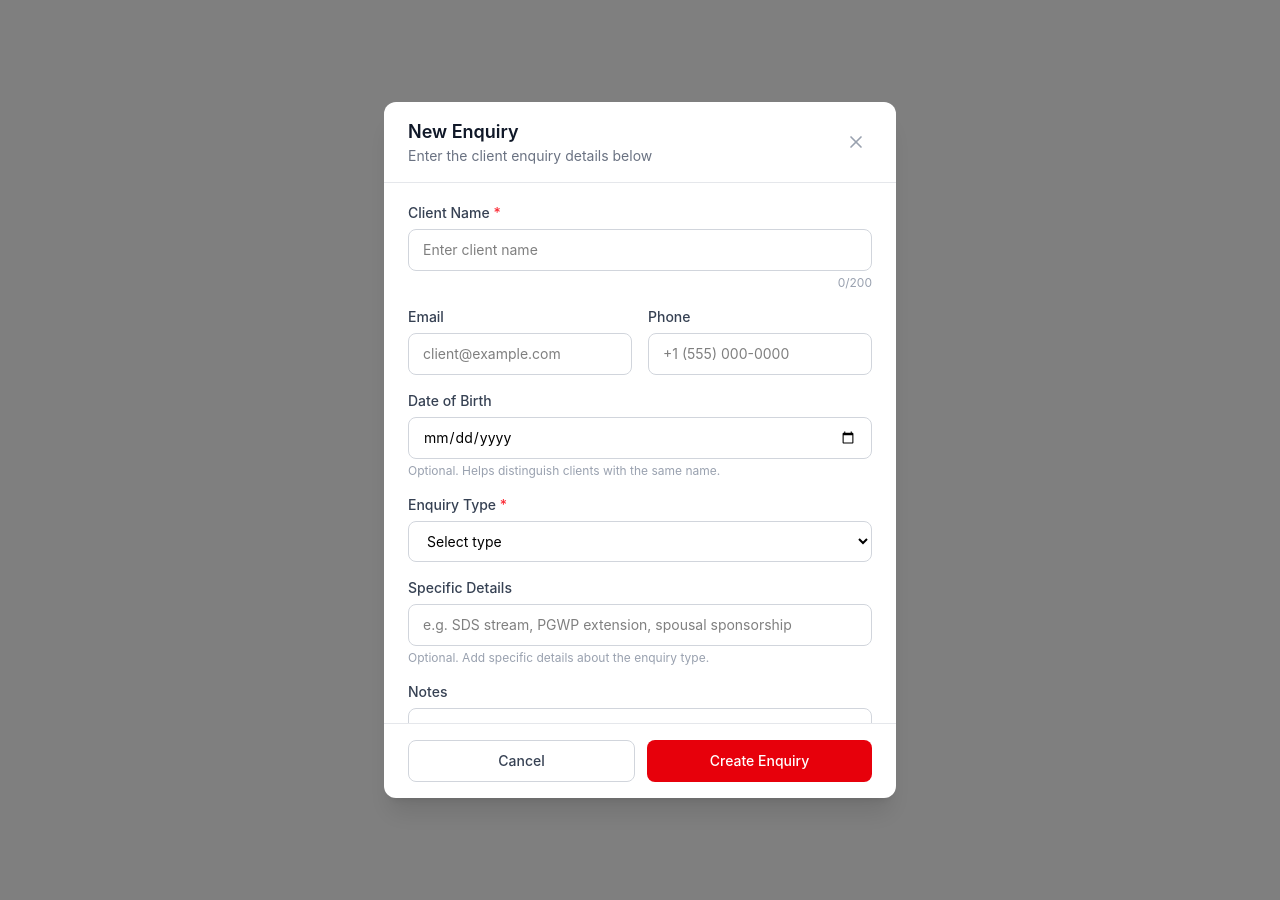
Test case: AddEnquiryModal Component › Form Validation › should show error for future date of birth
The image size is (1280, 900).
Type "John Doe" into the field with placeholder "Enter client name".
click(640, 250); type("John Doe")  # box x1=408 y1=229 x2=872 y2=271
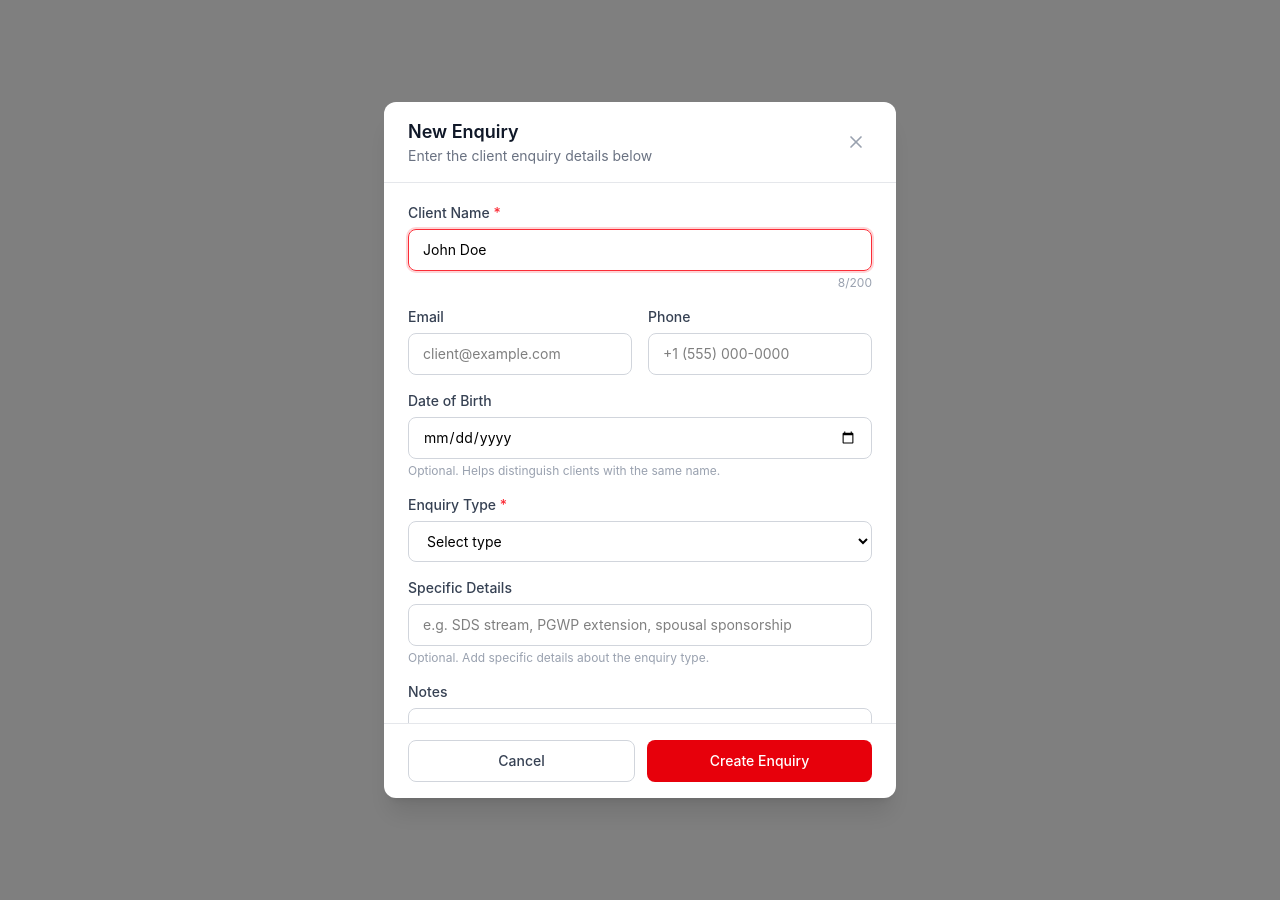
Select "Study Permit" in the dropdown labelled "Enquiry Type *" at coordinates (640, 542), box x1=408 y1=521 x2=872 y2=562
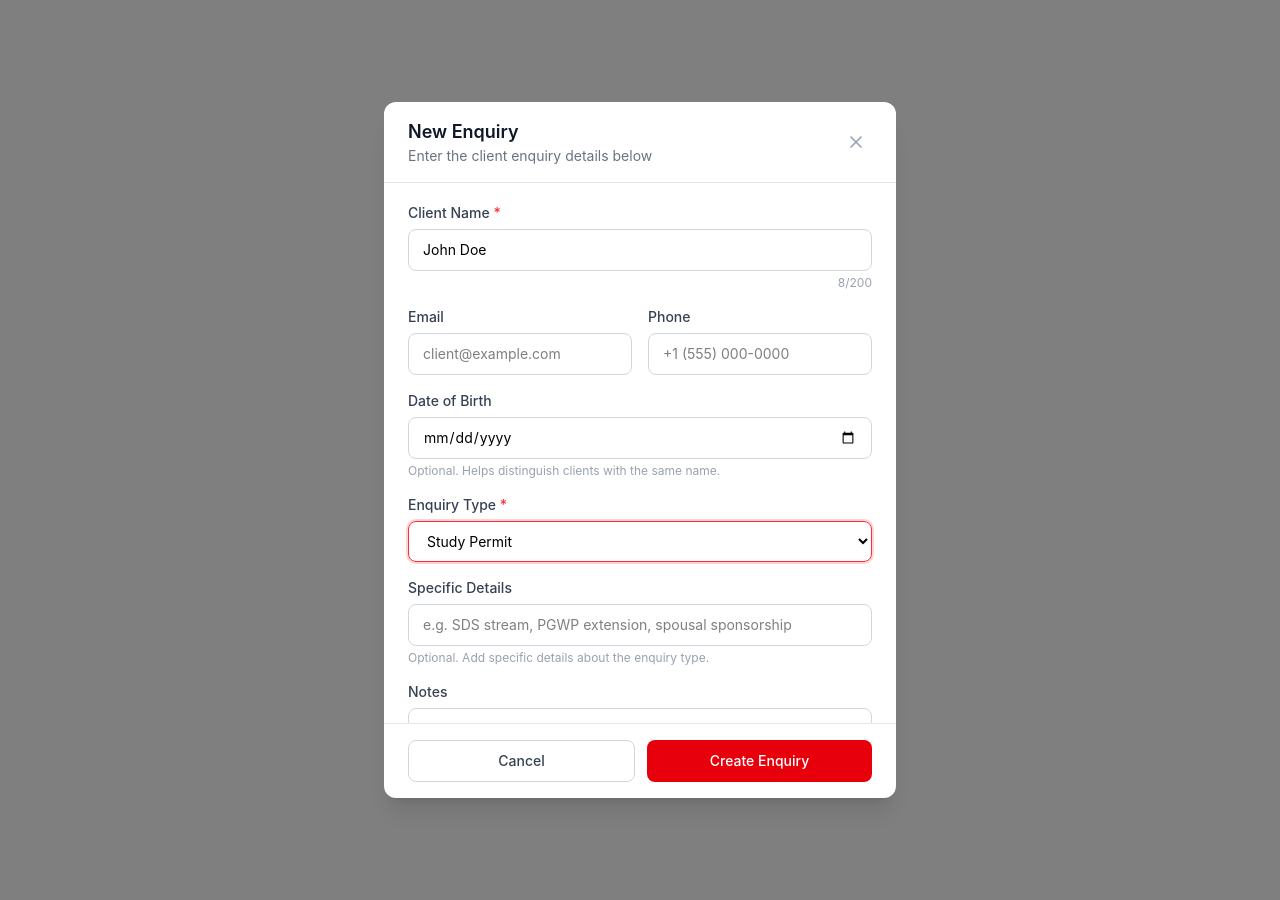
Type "2999-01-01" into the date field labelled "Date of Birth".
click(640, 438); type("2999-01-01")  # box x1=408 y1=417 x2=872 y2=459
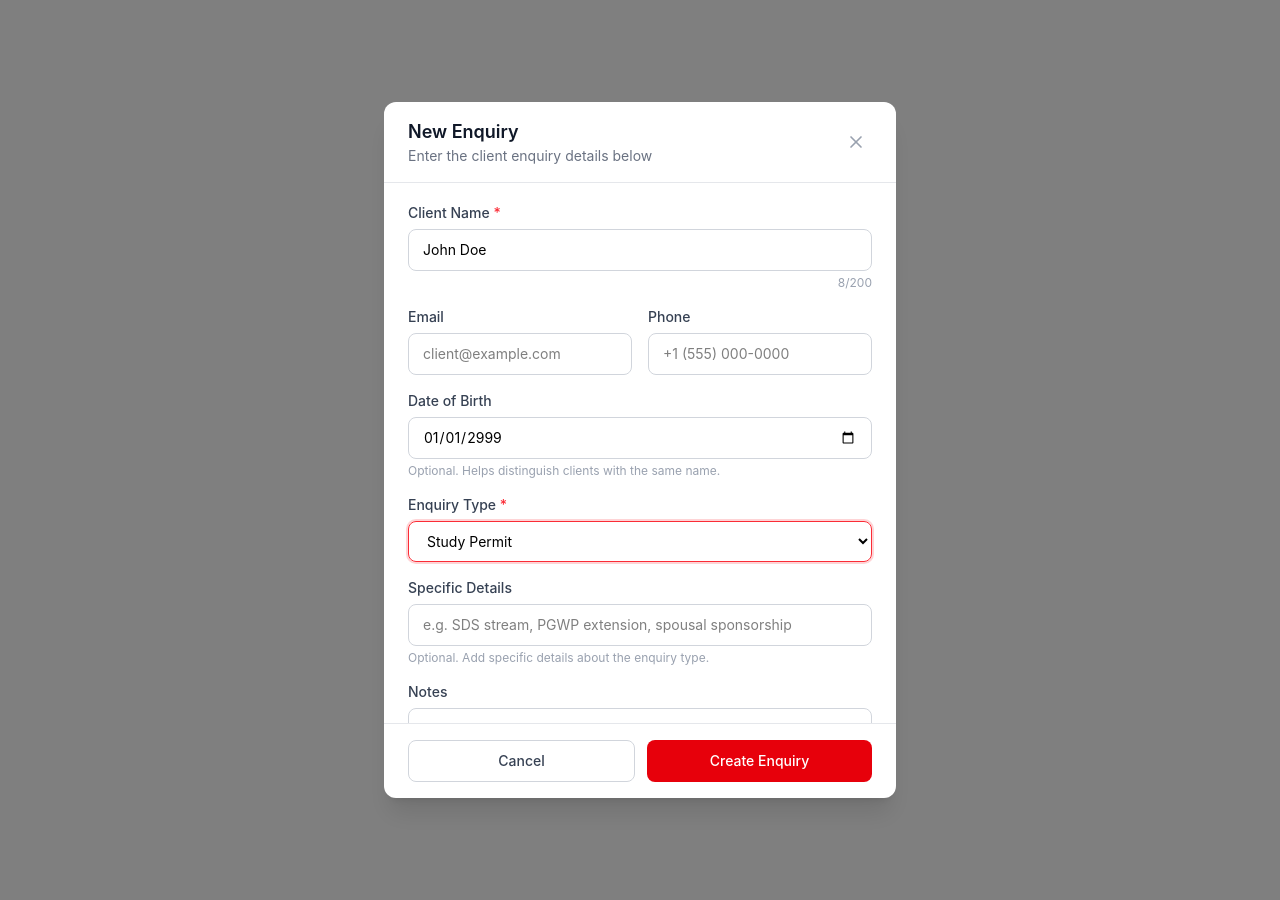
Click the button "Create Enquiry".
click(760, 761)  # box x1=647 y1=740 x2=872 y2=782
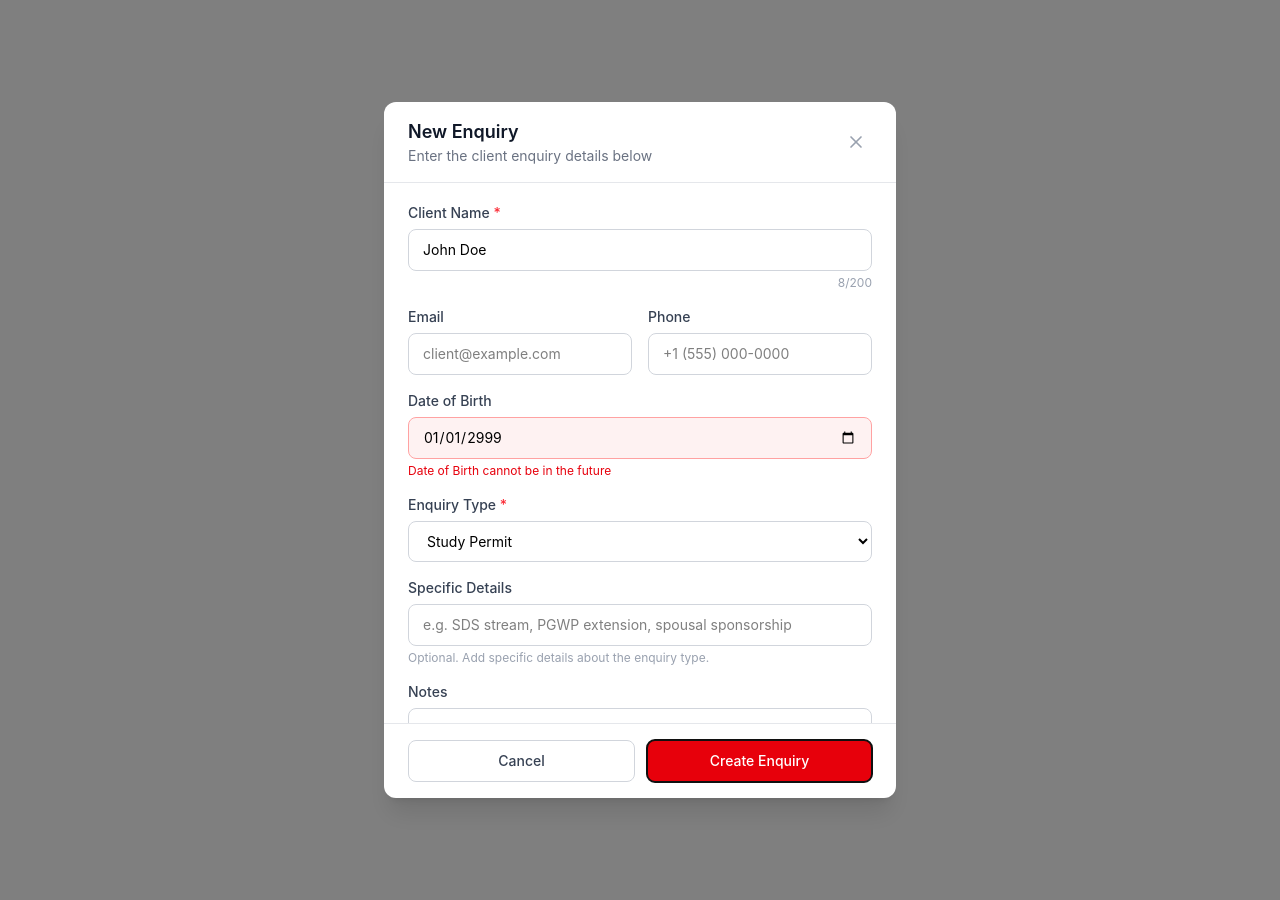
expect the text "Date of Birth cannot be in the future" is shown: met, box x1=408 y1=463 x2=611 y2=478
